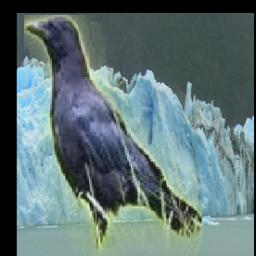Crow: (24, 16, 202, 256)
